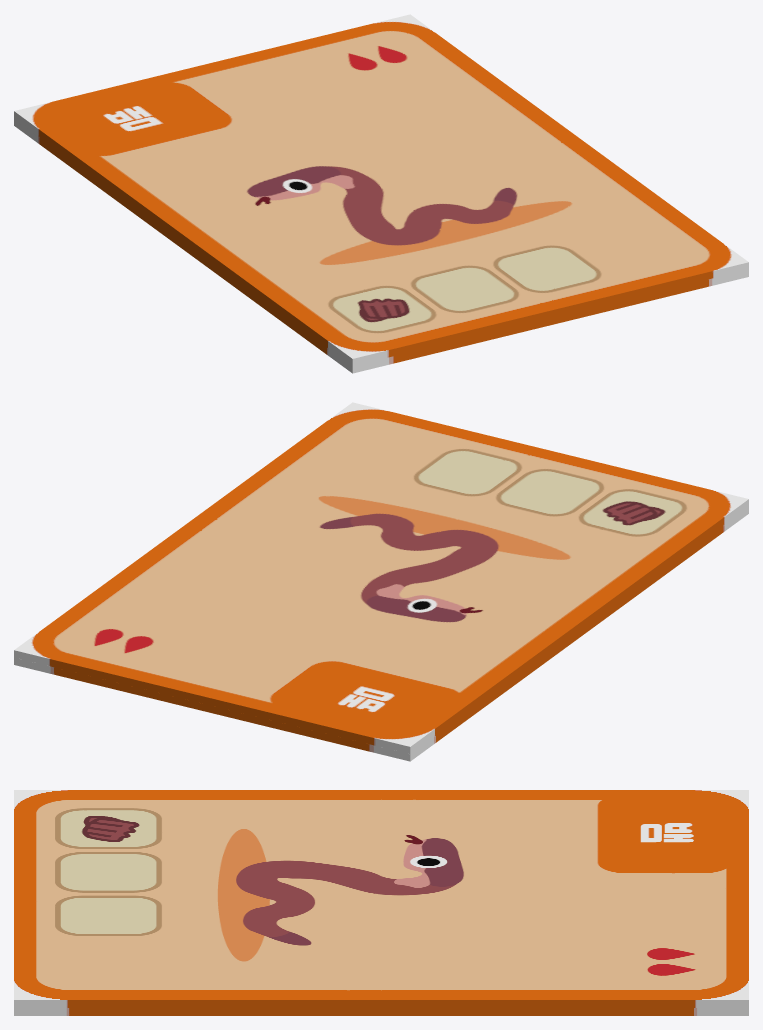
Rendered from SnakeCard.fbx.
3 renders of one model, top to bottom at view 1: azimuth 30°, elevation 25°; view 2: azimuth 150°, elevation 25°; view 3: azimuth 270°, elevation 25°, orthographic. The views are drawn at different scales.
Parts seen in each view (by area): view 1: Front, Back; view 2: Front, Back; view 3: Front, Back.
Part boxes in pixels (left/top/right/bottom): Front: left=14, top=14, right=748, bottom=366; Back: left=14, top=118, right=748, bottom=373; Front: left=14, top=402, right=748, bottom=754; Back: left=14, top=506, right=748, bottom=761; Front: left=14, top=790, right=748, bottom=1007; Back: left=14, top=1008, right=748, bottom=1015.
Bounding box in the file's own units: 4.06 × 0.1436 × 6.
